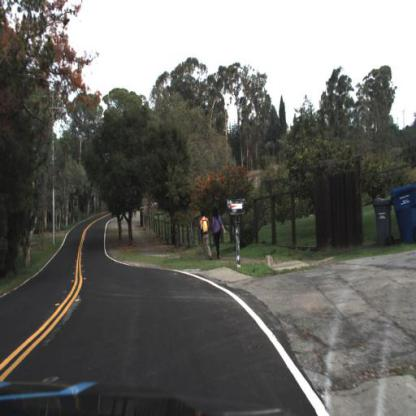pedestrian: (211, 205, 227, 262), (211, 208, 226, 267), (199, 209, 213, 263), (199, 208, 213, 260)
